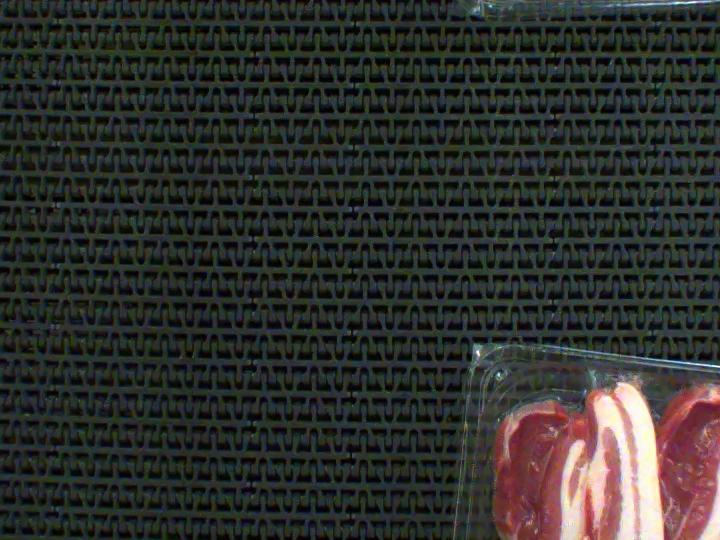packaging-error: (520, 338, 720, 423)
